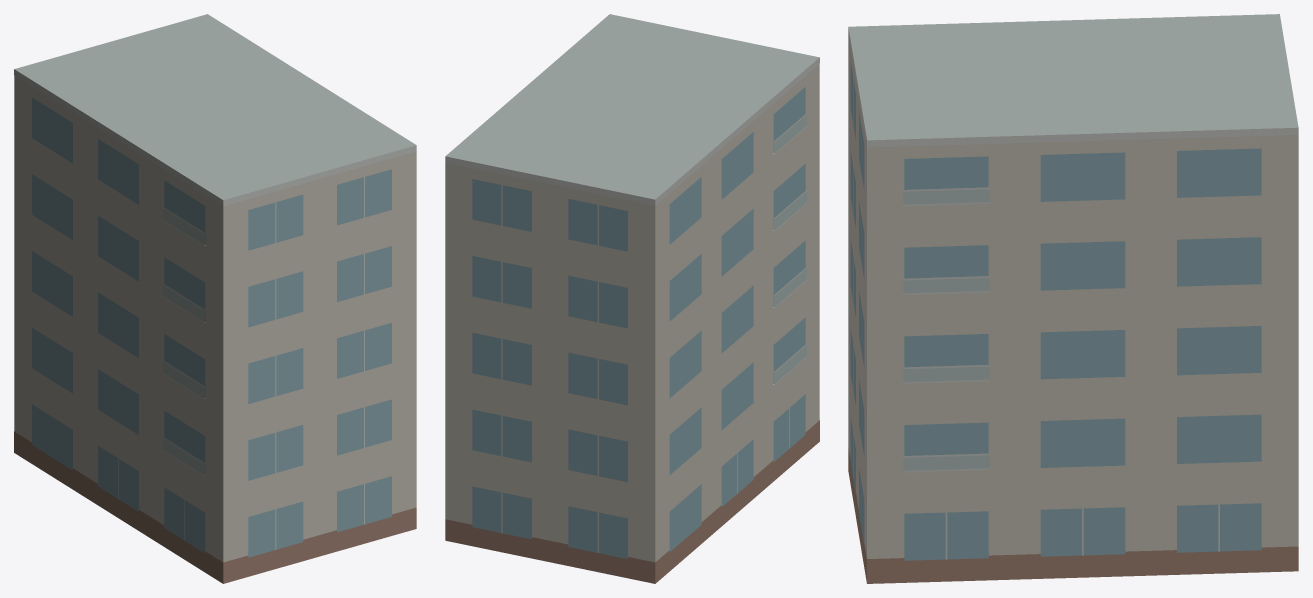
File: survey-upis-32775485.glb
3 views of the same model, side by side, from view 1: azimuth 30°, elevation 25°; view 2: azimuth 150°, elevation 25°; view 3: azimuth 270°, elevation 25° (orthographic). The views are drawn at different scales.
Visible parts, largest first — view 1: survey-upis-32775485.tmp; view 2: survey-upis-32775485.tmp; view 3: survey-upis-32775485.tmp.
Boxes of the visible parts, x1=… form: survey-upis-32775485.tmp: x1=14, y1=14, x2=416, y2=583; survey-upis-32775485.tmp: x1=445, y1=14, x2=819, y2=583; survey-upis-32775485.tmp: x1=848, y1=14, x2=1298, y2=583.
Bounding box in the file's own units: 9.36 × 15.3 × 14.09.
